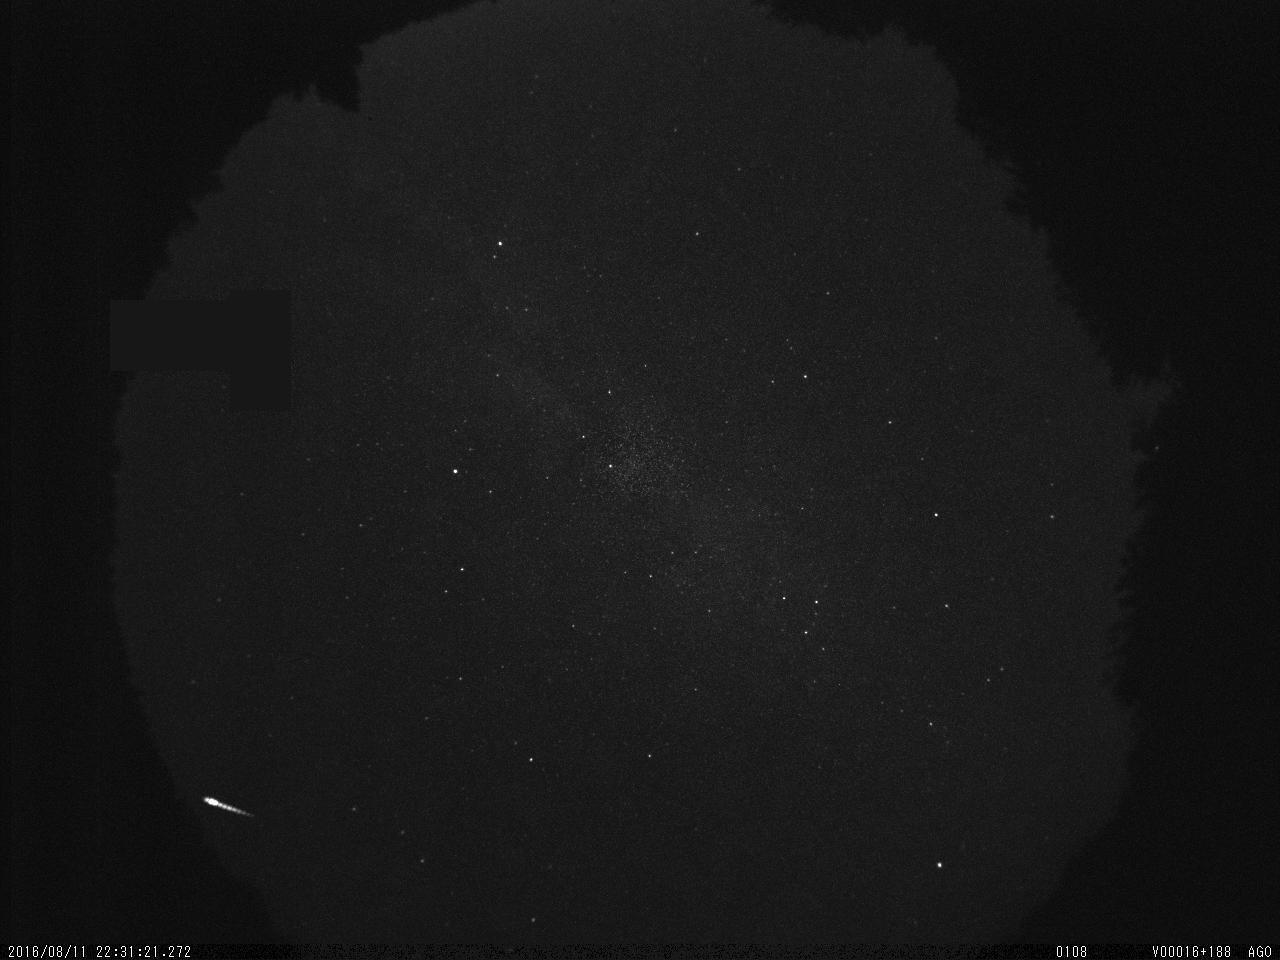meteor: (197, 783, 270, 833)
